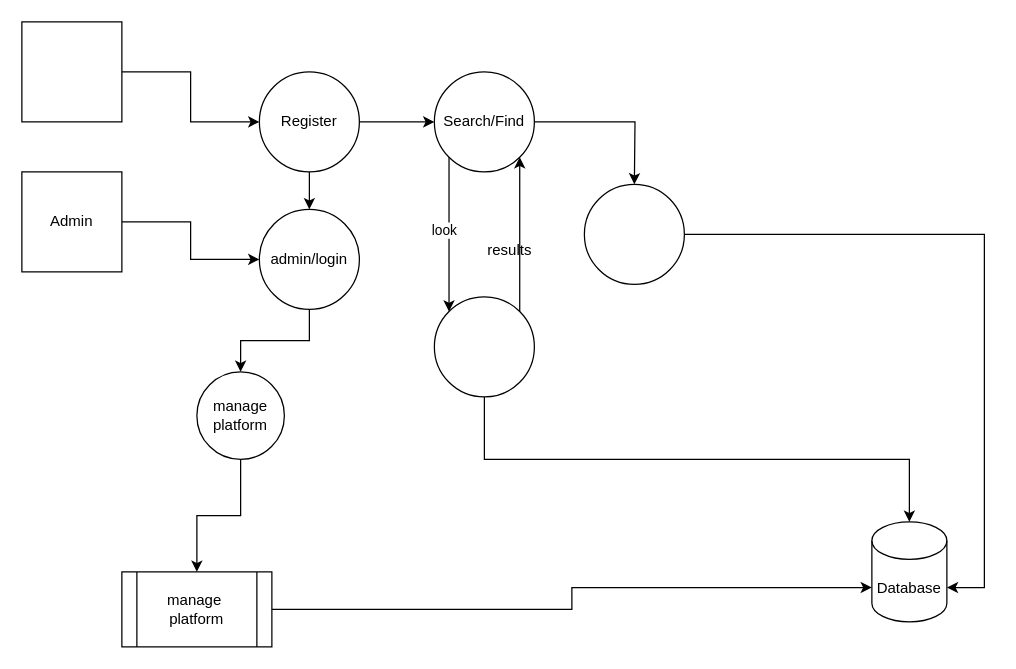
The diagram is 1016 pixels wide and 669 high, and some of its shapes have lost their labels. Each missing label, with the centre of its shape:
"rental" belongs at point 483,346.
"Review" belongs at point 633,233.
"User" belongs at point 71,71.
